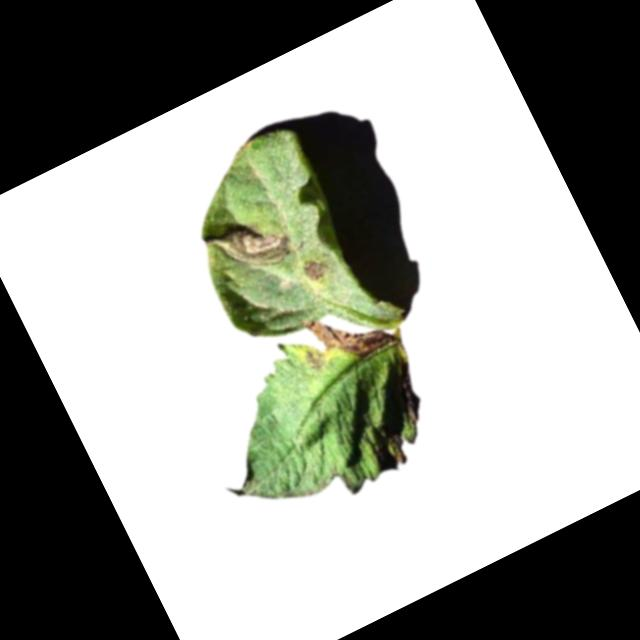Early_blight: (299, 285, 395, 377), (213, 206, 297, 282), (299, 252, 333, 285), (383, 431, 411, 468)
